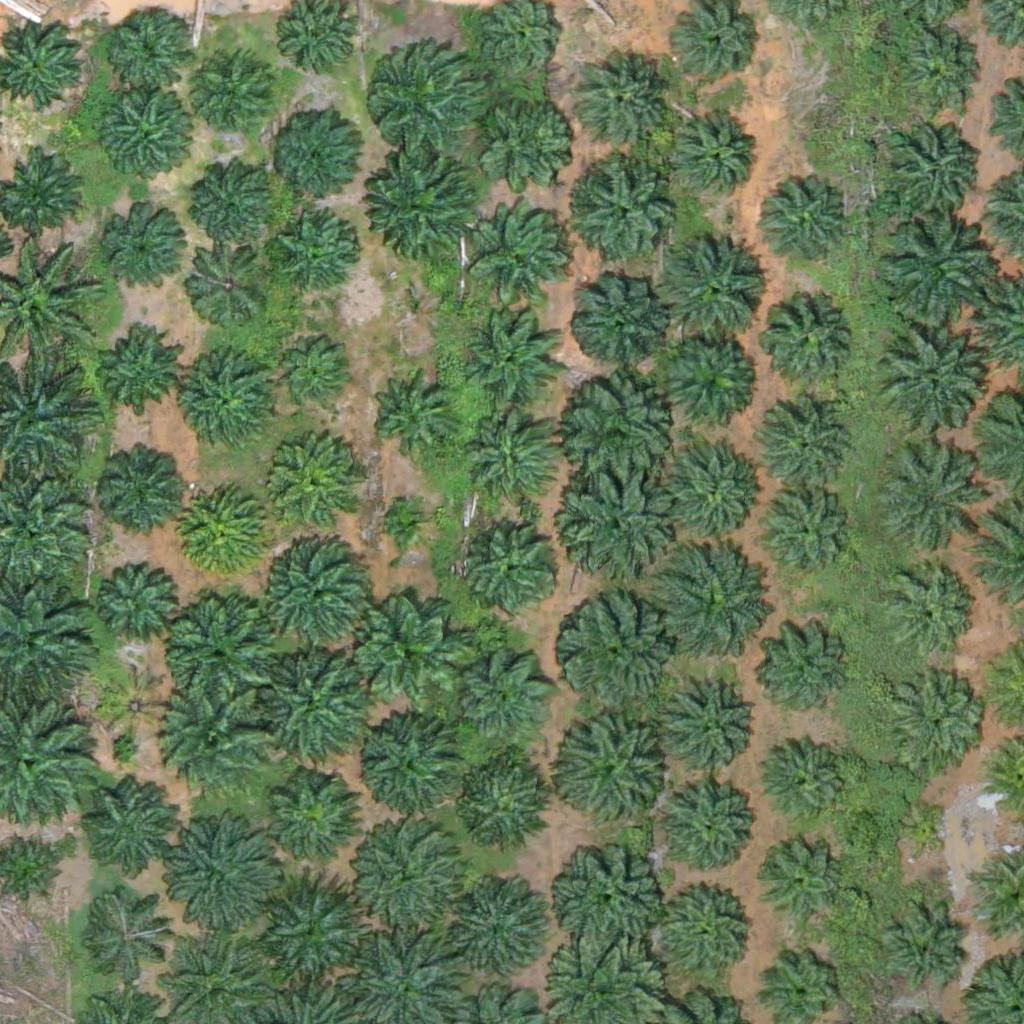Kelapa_Sawit: (150, 676, 275, 802), (256, 532, 381, 658), (253, 648, 378, 774), (348, 588, 473, 714), (365, 38, 490, 164), (151, 812, 276, 938), (659, 543, 772, 656), (557, 470, 670, 583), (878, 215, 990, 329), (163, 590, 275, 704), (653, 231, 765, 344), (570, 159, 682, 272), (563, 378, 675, 491), (873, 447, 973, 548), (749, 175, 849, 276), (754, 396, 854, 497), (755, 485, 855, 586), (664, 437, 764, 538), (656, 329, 756, 430), (572, 51, 672, 152), (559, 594, 659, 695), (265, 770, 365, 871), (358, 715, 458, 816), (453, 653, 553, 754), (464, 518, 564, 619), (464, 414, 564, 515), (459, 308, 559, 409), (474, 205, 574, 306), (377, 156, 477, 257), (357, 831, 457, 932), (560, 847, 660, 948), (882, 667, 982, 767), (877, 334, 977, 434), (882, 118, 982, 218), (758, 290, 858, 390), (568, 271, 668, 371), (76, 774, 176, 874), (181, 356, 281, 456), (478, 83, 578, 183), (565, 716, 665, 816), (68, 890, 168, 990), (264, 894, 364, 994), (449, 885, 549, 985), (658, 880, 758, 980), (882, 565, 970, 653), (666, 679, 754, 767), (665, 111, 753, 199), (99, 95, 187, 183), (104, 210, 192, 298), (92, 322, 180, 410), (96, 439, 184, 527), (182, 487, 270, 575), (268, 445, 356, 533), (466, 767, 554, 855), (270, 111, 357, 200), (763, 731, 850, 820), (102, 3, 189, 91), (189, 157, 276, 245), (900, 26, 987, 114), (759, 624, 846, 712), (95, 558, 182, 646), (184, 238, 271, 326), (192, 49, 279, 137), (275, 219, 362, 307), (669, 787, 756, 875), (369, 369, 456, 457), (280, 335, 355, 410), (762, 843, 837, 918), (896, 910, 971, 985), (102, 671, 164, 734), (382, 494, 432, 544), (893, 812, 943, 862)
